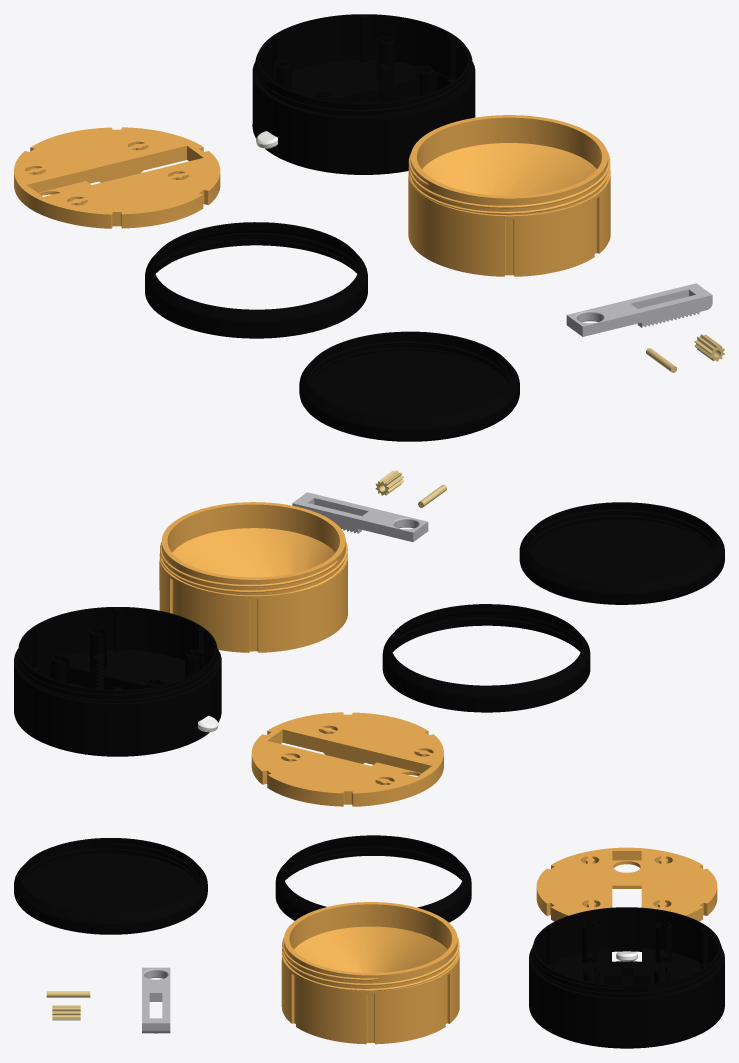
The model's file is exploded-h.glb.
3 views of the same model, one above another, from view 1: azimuth 30°, elevation 25°; view 2: azimuth 150°, elevation 25°; view 3: azimuth 270°, elevation 25° (orthographic). The views are drawn at different scales.
Bounding box in the file's own units: 0.2309 × 0.044 × 0.3637.
